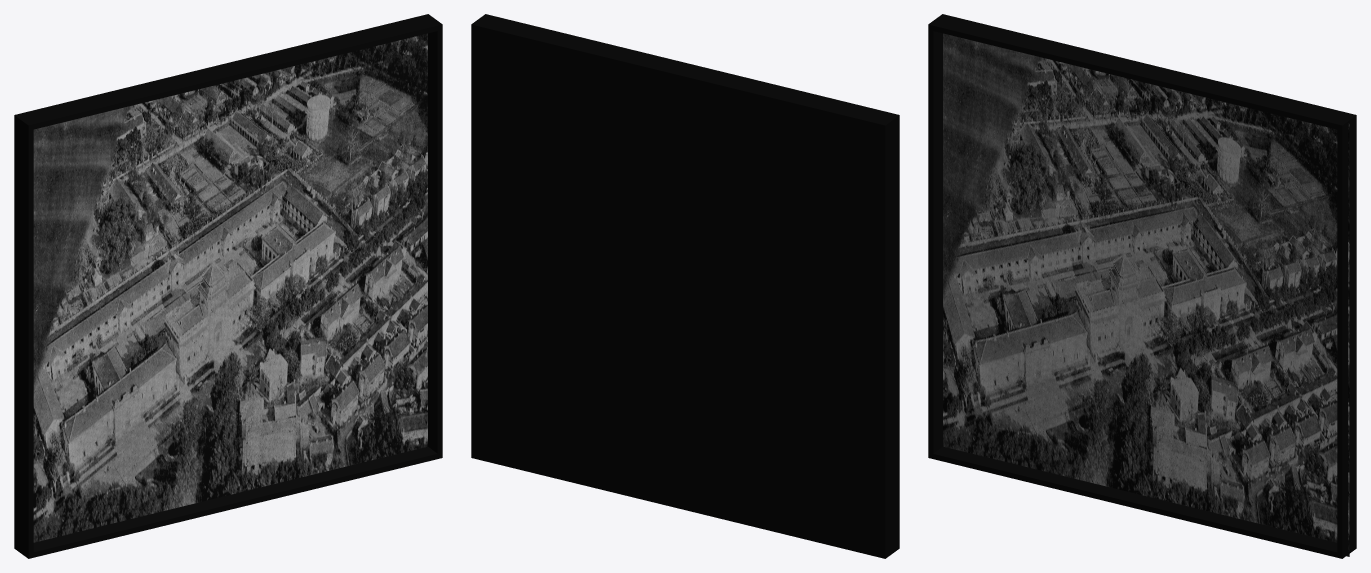
Rendered from FlyCam.obj.
3 views of the same model, side by side, from view 1: azimuth 30°, elevation 25°; view 2: azimuth 150°, elevation 25°; view 3: azimuth 330°, elevation 25° (orthographic).
Parts seen in each view (by area): view 1: Plane, Cube; view 2: Cube; view 3: Plane, Cube.
Boxes of the visible parts, x1,y1,x2,y2 form: Plane: (33, 33, 427, 542); Cube: (14, 14, 442, 558); Cube: (471, 14, 899, 558); Plane: (943, 33, 1349, 556); Cube: (928, 14, 1356, 558).
Size of the model in its own units: 1 by 1 by 0.06.
Materials: 2 (1 with a texture image).
